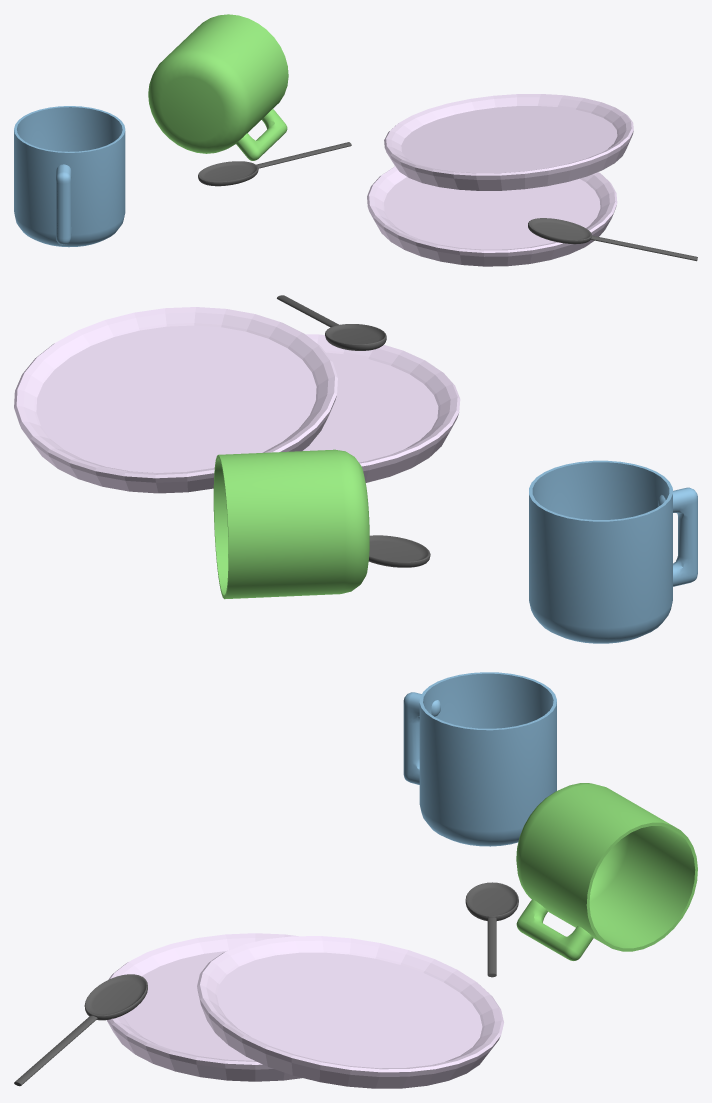
The model's file is dishes_03.glb.
The picture shows the model from 3 angles, top to bottom: view 1: azimuth 30°, elevation 25°; view 2: azimuth 150°, elevation 25°; view 3: azimuth 270°, elevation 25°; orthographic projection. The views are drawn at different scales.
Visible parts, largest first — view 1: Cylinder.118; view 2: Cylinder.118; view 3: Cylinder.118.
Part boxes in pixels (bbox=[...]): Cylinder.118: bbox=[14, 14, 697, 266]; Cylinder.118: bbox=[14, 295, 697, 643]; Cylinder.118: bbox=[14, 672, 697, 1088].
Bounding box in the file's own units: 0.3909 × 0.0784 × 0.3471.
